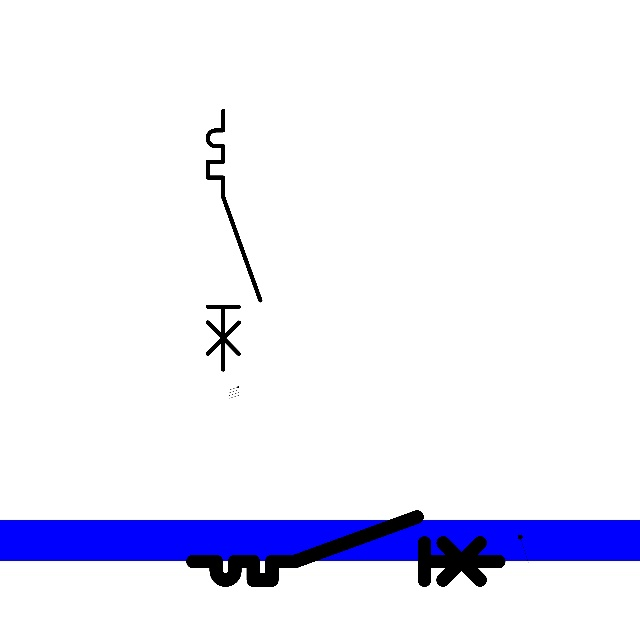interruptor_termomagnetico: (185, 509, 506, 588), (201, 104, 267, 376)
